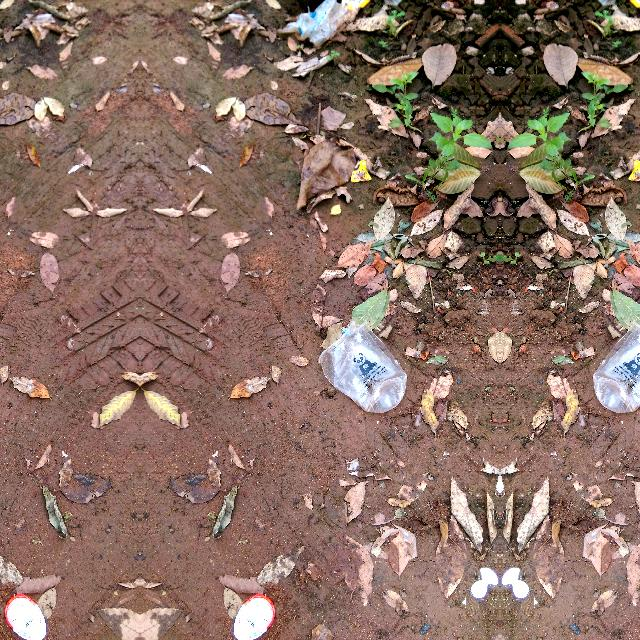Plastic: (304, 311, 412, 419), (585, 311, 640, 419), (280, 0, 363, 48), (223, 586, 287, 640), (0, 586, 55, 639), (459, 561, 498, 615), (499, 561, 538, 615)
